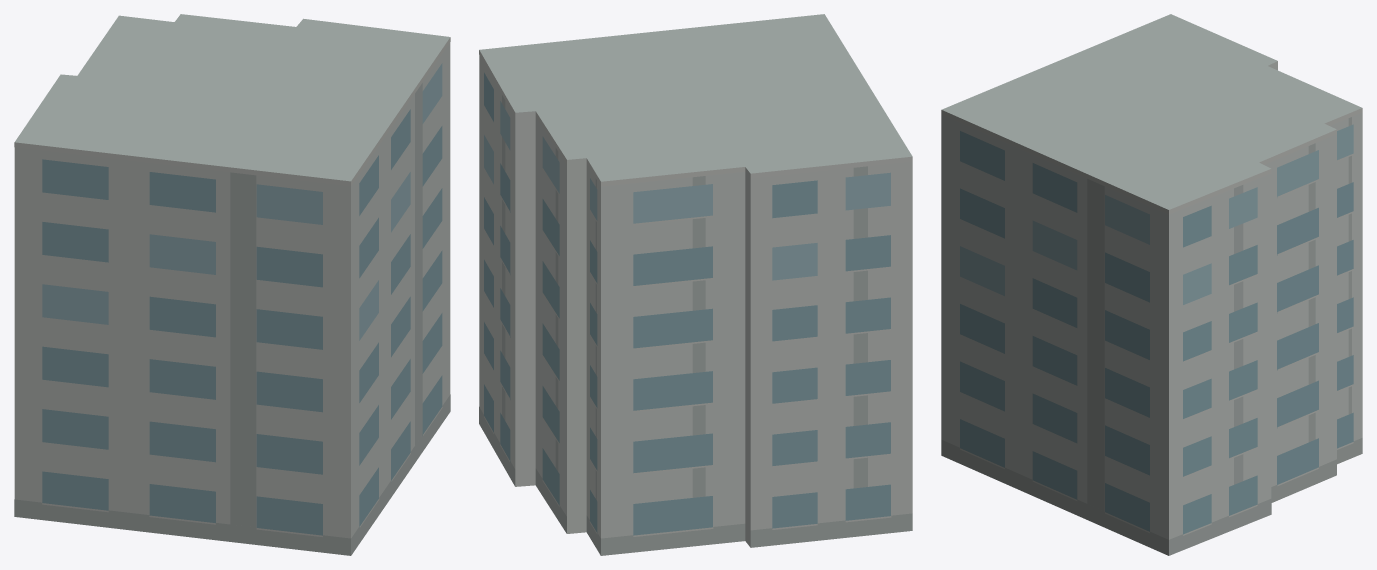
Rendered from survey-upis-32912500.glb.
The picture shows the model from 3 angles, left to right: view 1: azimuth 30°, elevation 25°; view 2: azimuth 150°, elevation 25°; view 3: azimuth 270°, elevation 25°; orthographic projection. The views are drawn at different scales.
Visible parts, largest first — view 1: survey-upis-32912500.tmp; view 2: survey-upis-32912500.tmp; view 3: survey-upis-32912500.tmp.
Part boxes in pixels (box(x1,y1,x2,y2)): survey-upis-32912500.tmp: box(14, 14, 450, 555); survey-upis-32912500.tmp: box(479, 14, 912, 555); survey-upis-32912500.tmp: box(941, 14, 1362, 555).
Size of the model in its own units: 22.25 by 18.3 by 20.2.
